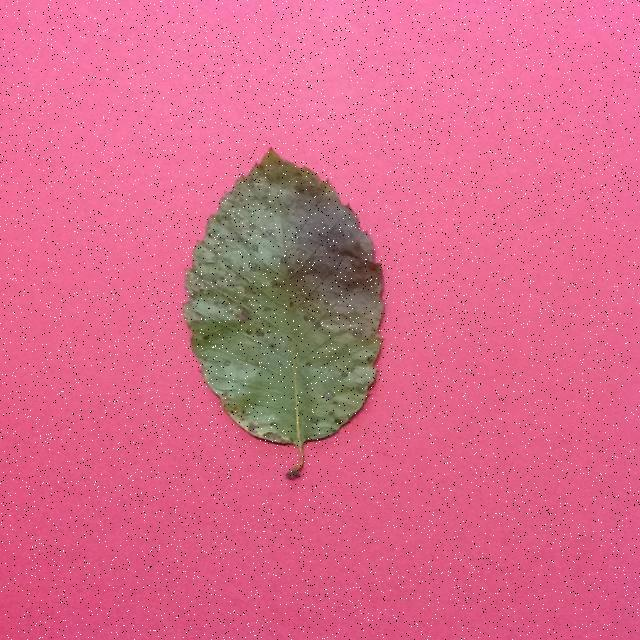foliage: (186, 146, 390, 482)
